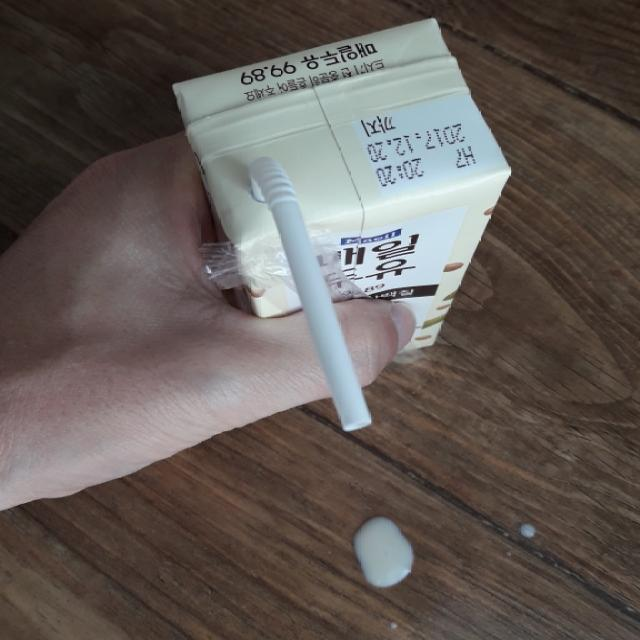Tetra: (175, 0, 512, 300)
